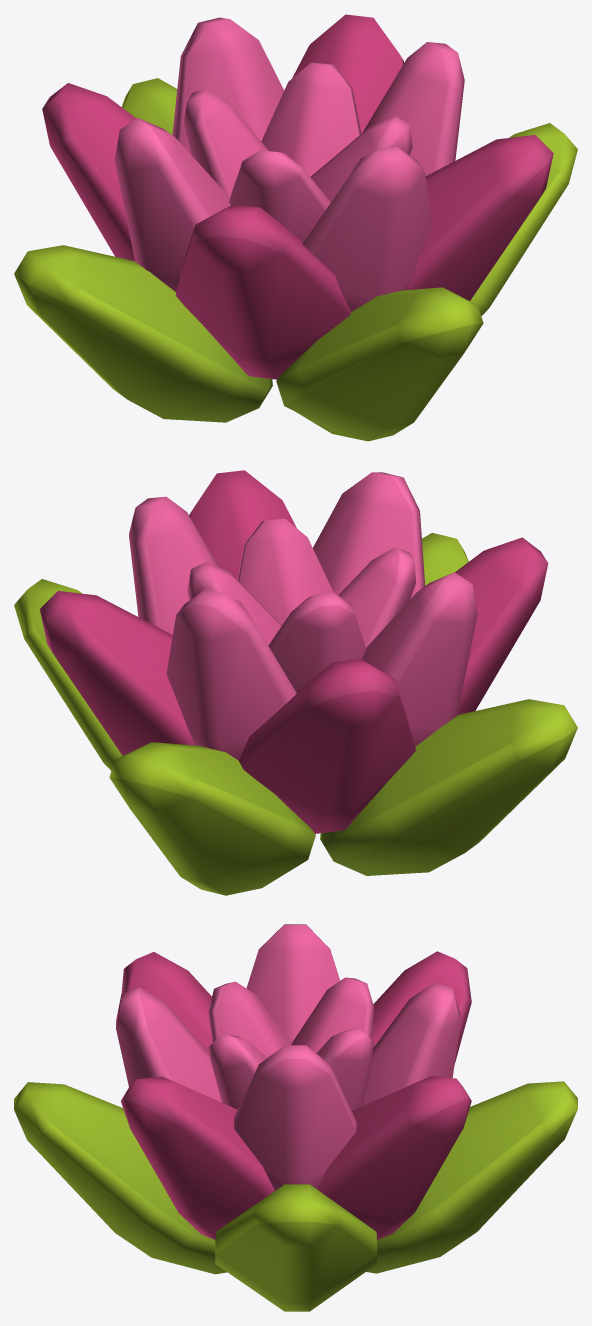
File: lotus_flower_pink_LOD_group.fbx
3 views of the same model, one above another, from view 1: azimuth 30°, elevation 25°; view 2: azimuth 150°, elevation 25°; view 3: azimuth 270°, elevation 25° (orthographic). The views are drawn at different scales.
Visible parts, largest first — view 1: lotus_flower_pink_LOD0; view 2: lotus_flower_pink_LOD0; view 3: lotus_flower_pink_LOD0.
Boxes of the visible parts, left/top/right/bottom form: lotus_flower_pink_LOD0: left=14, top=14, right=577, bottom=441; lotus_flower_pink_LOD0: left=14, top=470, right=577, bottom=895; lotus_flower_pink_LOD0: left=14, top=924, right=577, bottom=1311.
Size of what is drawn, in the model's own units: 84.57 by 46.76 by 84.99.
Materials: 1 (1 with a texture image).
